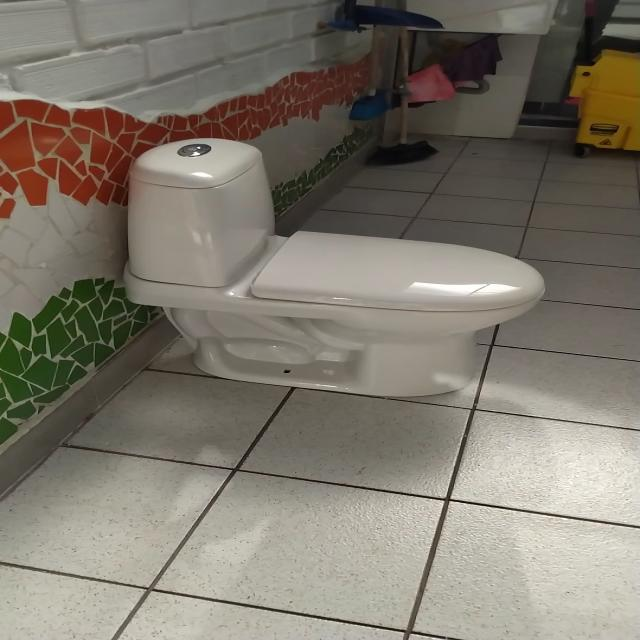toilet: (122, 137, 545, 398)
